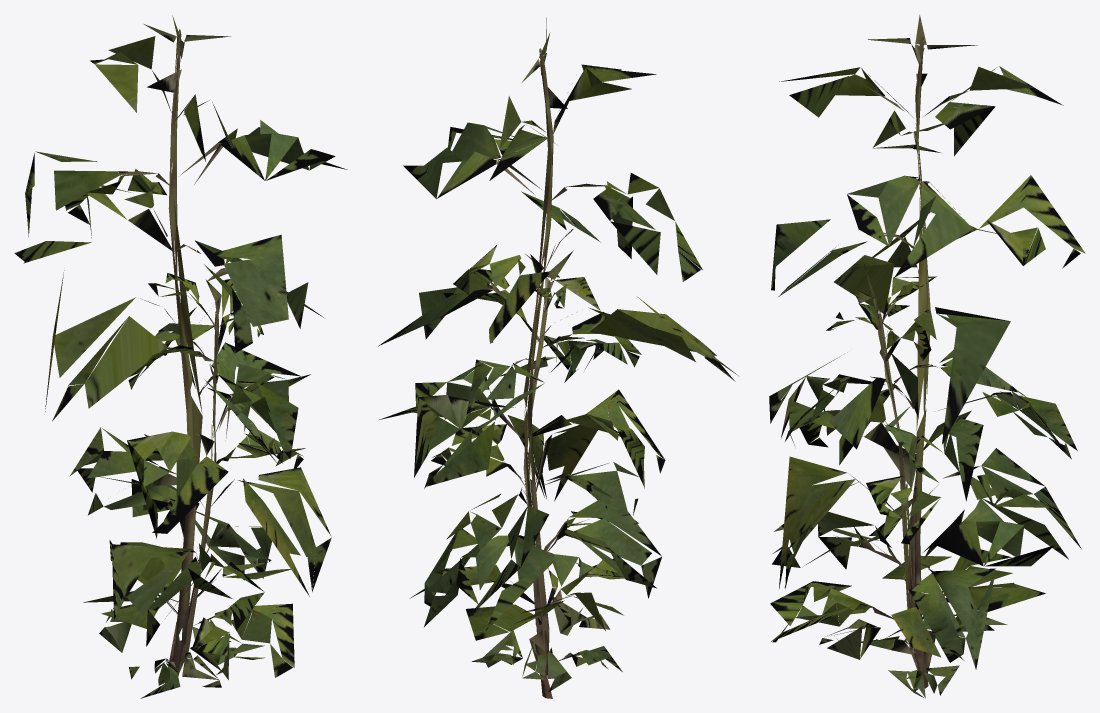
File: plant_nettle_plant.glb
3 renders of one model, left to right at view 1: azimuth 30°, elevation 25°; view 2: azimuth 150°, elevation 25°; view 3: azimuth 270°, elevation 25°, orthographic. The views are drawn at different scales.
Visible parts, largest first — view 1: nettleA, nettleB; view 2: nettleA, nettleB; view 3: nettleA, nettleB.
Part boxes in pixels (x1,y1,x2,y2): nettleA: (14, 15, 347, 687); nettleB: (77, 273, 331, 698); nettleA: (378, 17, 738, 698); nettleB: (379, 250, 665, 671); nettleA: (769, 14, 1085, 688); nettleB: (770, 262, 1081, 698).
Bounding box in the file's own units: 0.1054 × 0.209 × 0.0892.
1 material, 1 textured.
